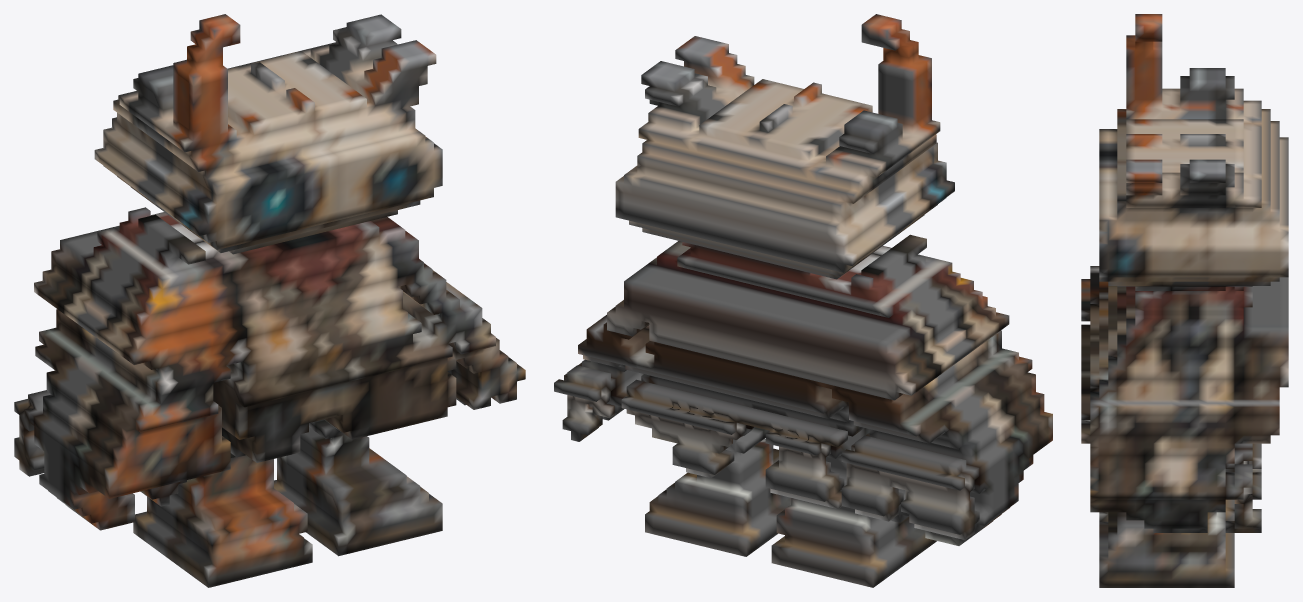
The model's file is sheet3_L2.glb.
3 renders of one model, left to right at view 1: azimuth 30°, elevation 25°; view 2: azimuth 150°, elevation 25°; view 3: azimuth 270°, elevation 25°, orthographic. The views are drawn at different scales.
Parts seen in each view (by area): view 1: BPT_sheet3_L2; view 2: BPT_sheet3_L2; view 3: BPT_sheet3_L2.
Part boxes in pixels (x1,y1,x2,y2): BPT_sheet3_L2: (14,14,525,587); BPT_sheet3_L2: (554,14,1052,587); BPT_sheet3_L2: (1081,14,1288,587).
Size of the model in its own units: 1.63 by 2 by 0.7797.
